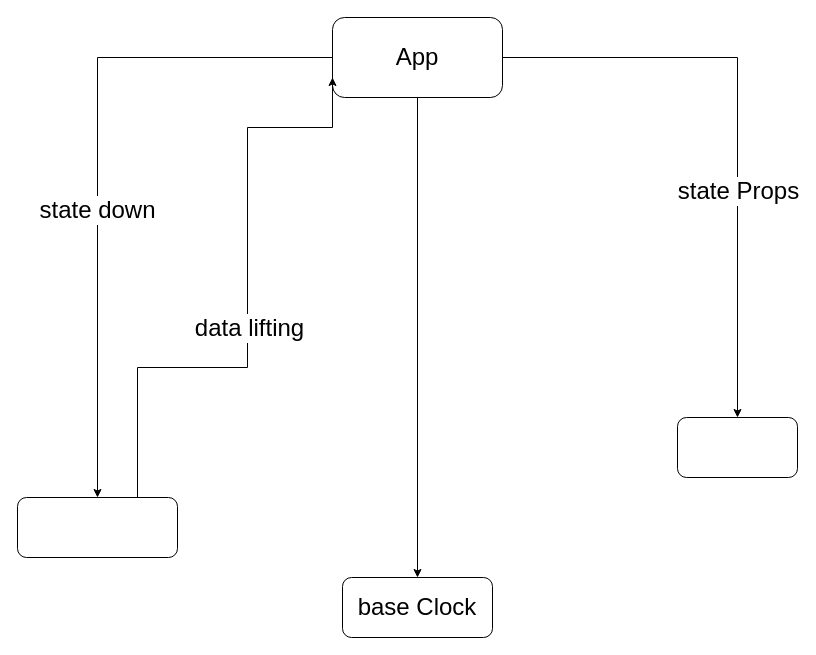
The diagram is 816 pixels wide and 655 high, and some of its shapes have lost their labels. Here are the shapes that lost their labels. From the top down, the centre of each, then its label:
At point 737,447: "Clock".
At point 97,527: "Clock Form".
